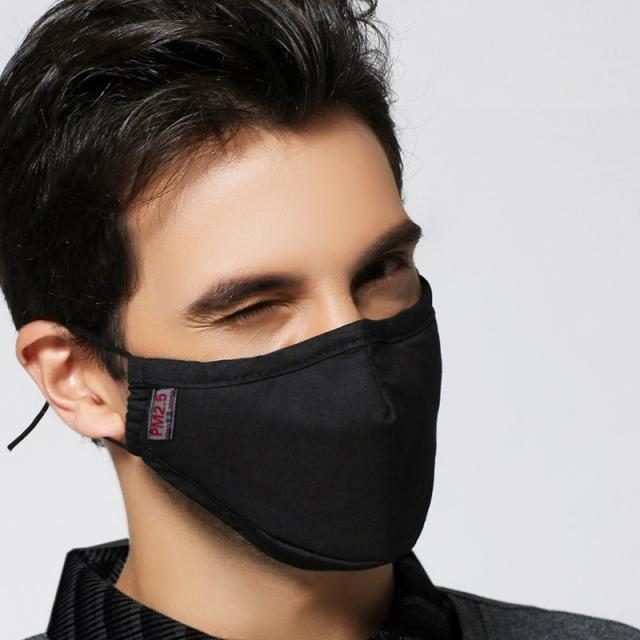mask: (123, 116, 442, 554)
